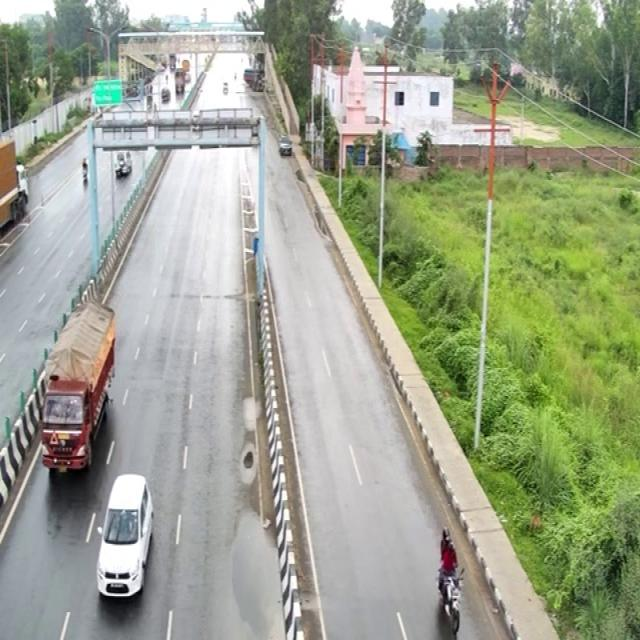car: (121, 350, 206, 453)
